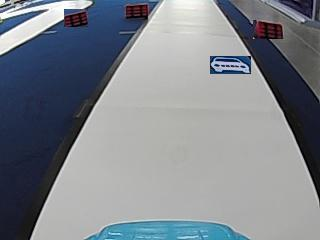bomb: (124, 3, 149, 17)
